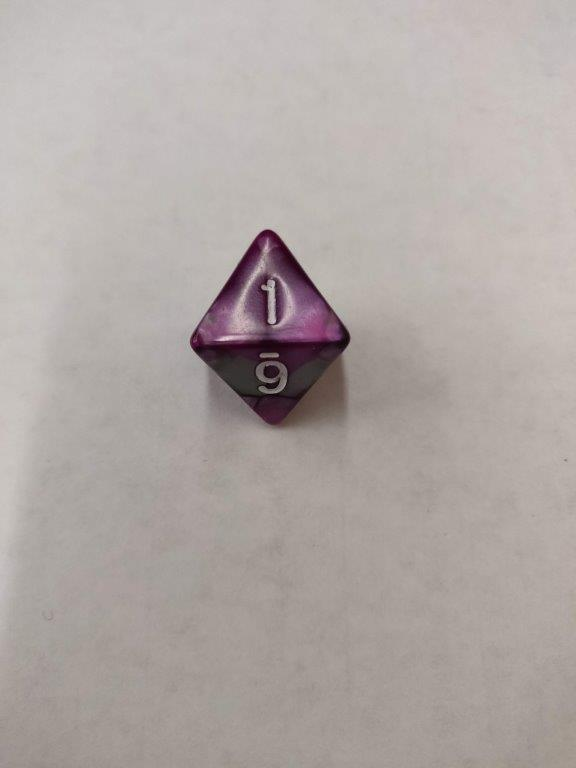d8-1: (188, 231, 347, 422)
